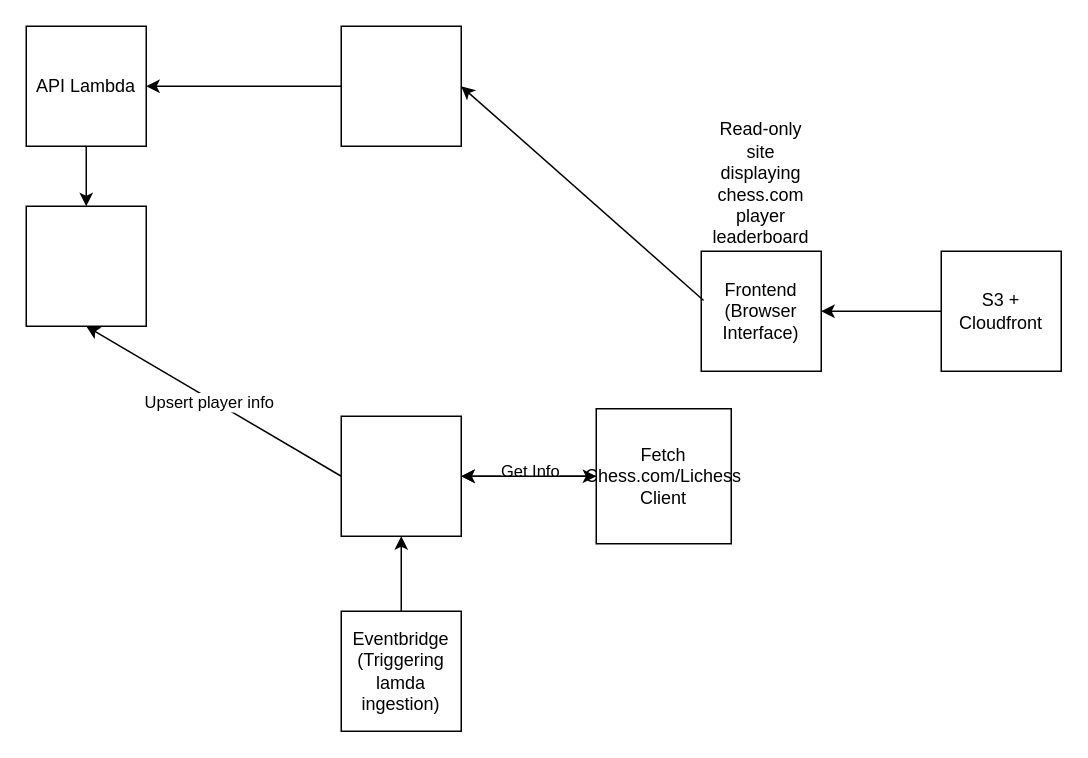
Image size: 1088x758. Some labels were removed from this diagram. The box of each missing label's shape, as (x1, y1, x2, y2) in pixels:
API Gateway (Retrieve player information): (340, 25, 461, 146)
Database: (25, 205, 146, 326)
Ingest Lambda: (340, 415, 461, 536)
